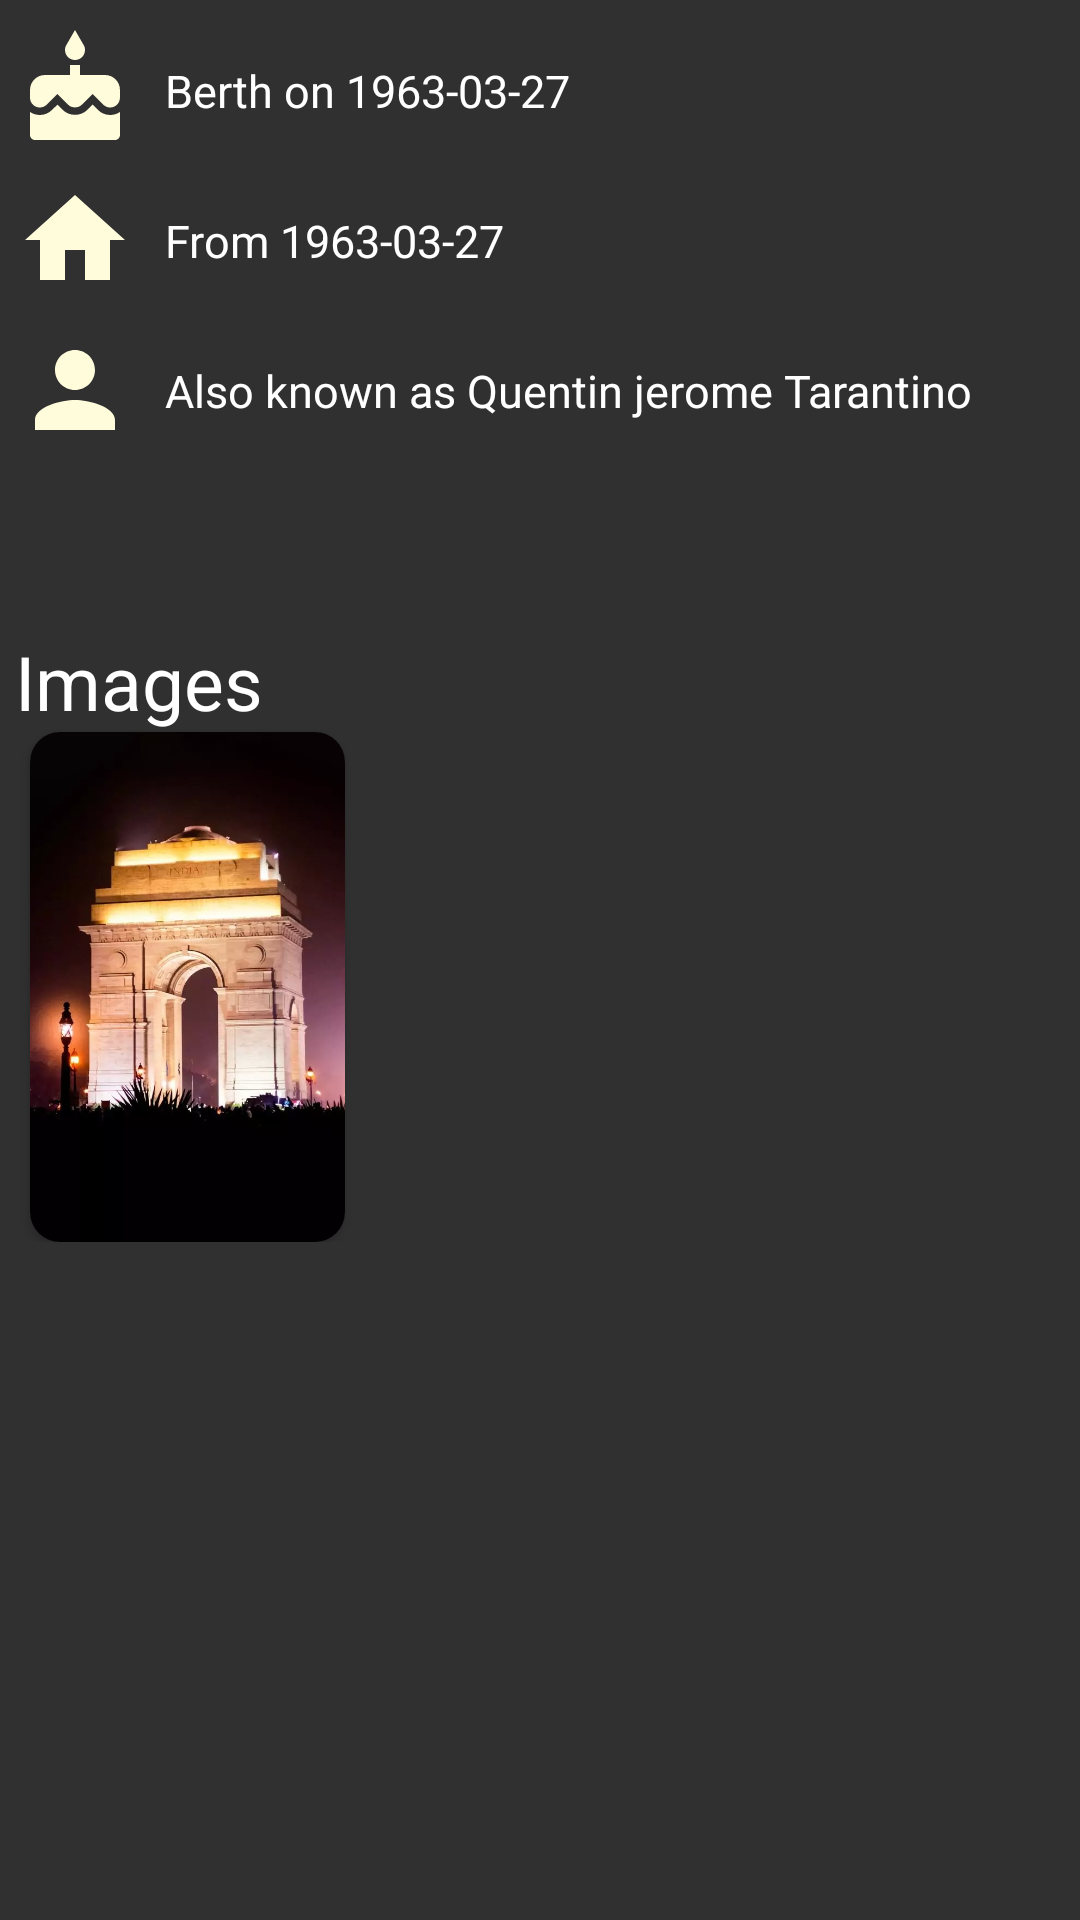

Named icons in this screenshot (1080px x 1920px) and their bounding boxes, detection(x1, y1, x2, y2):
cake: detection(30, 30, 120, 140)
home: detection(25, 195, 125, 280)
person: detection(35, 350, 115, 430)
